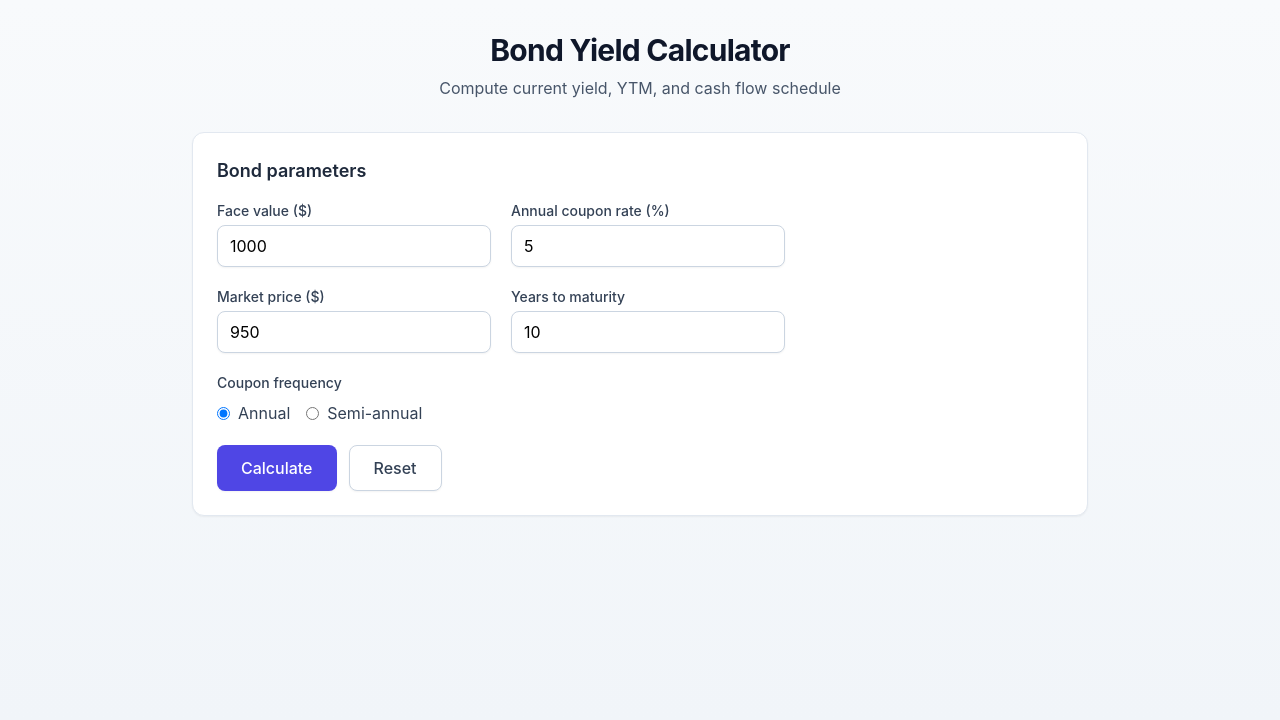
Test case: App › shows Results and cash flow when calculateBond succeeds
Click the button "Calculate".
click(277, 468)  # box [217,445,336,491]
(page scrolled)
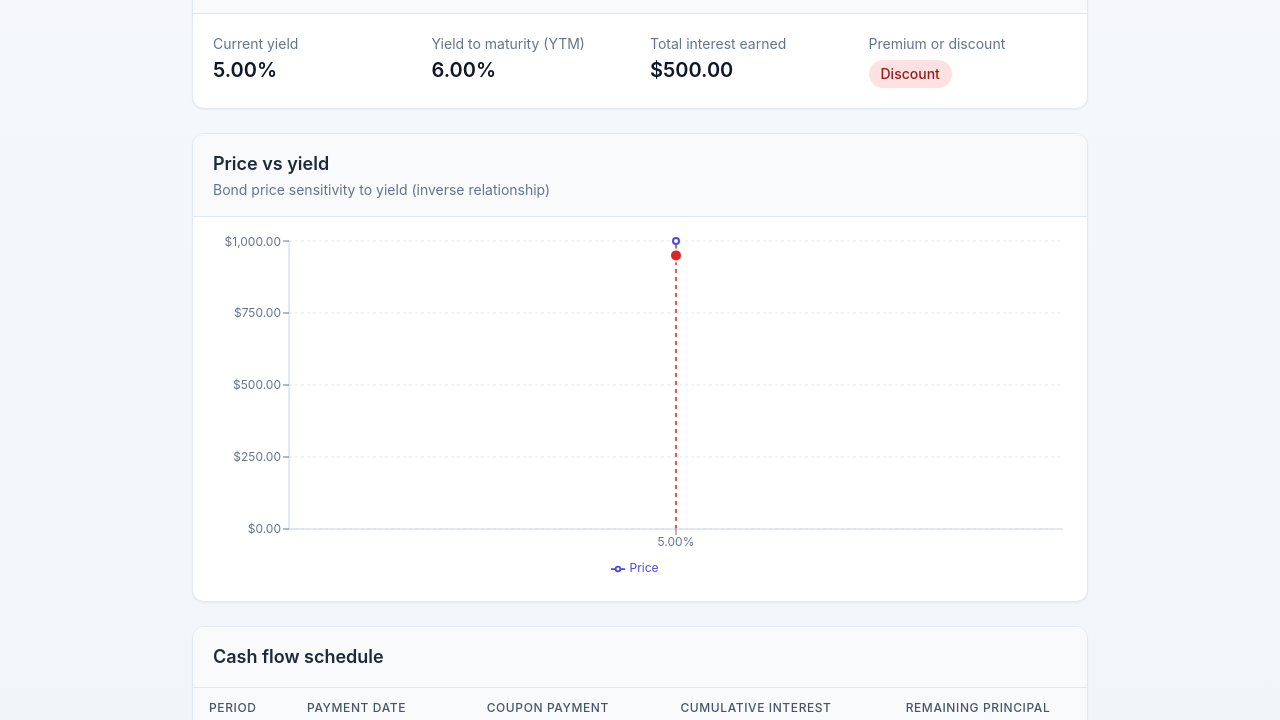
Expected: the heading "Cash flow schedule" is shown, [213,646,384,667]
